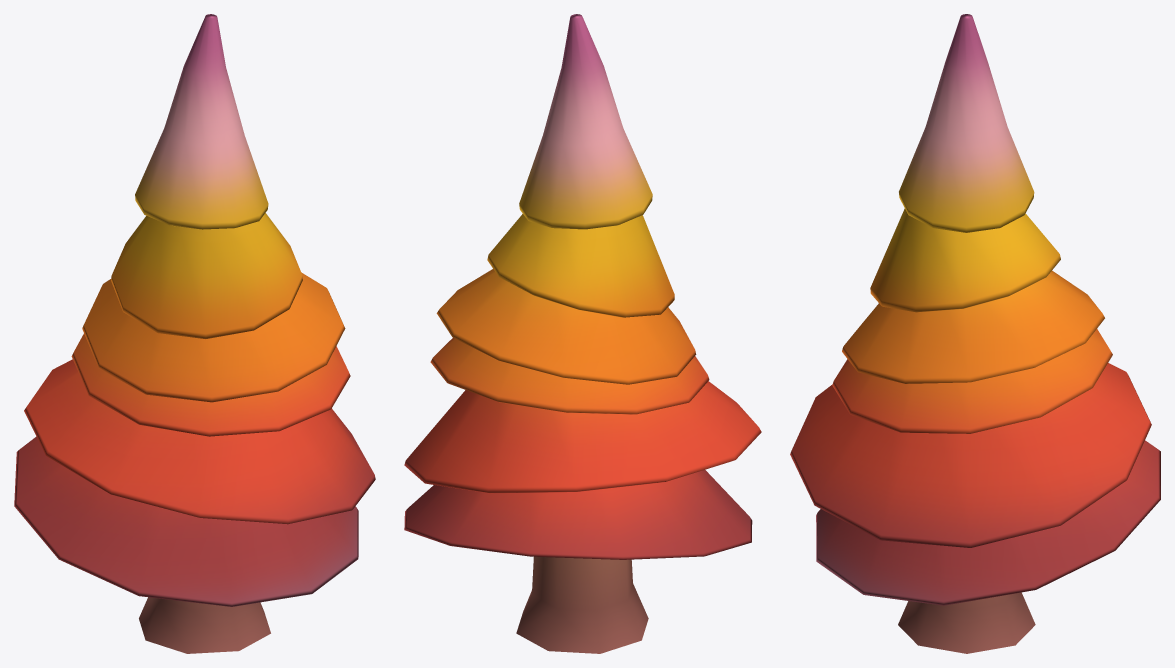
The model's file is Tree_02.fbx.
The picture shows the model from 3 angles, left to right: view 1: azimuth 30°, elevation 25°; view 2: azimuth 150°, elevation 25°; view 3: azimuth 270°, elevation 25°; orthographic projection.
Visible parts, largest first — view 1: Tree_02; view 2: Tree_02; view 3: Tree_02.
Part boxes in pixels (x1,y1,x2,y2): Tree_02: [14, 14, 375, 653]; Tree_02: [404, 14, 761, 653]; Tree_02: [790, 14, 1160, 653].
Bounding box in the file's own units: 3.12 × 5.89 × 3.24.
